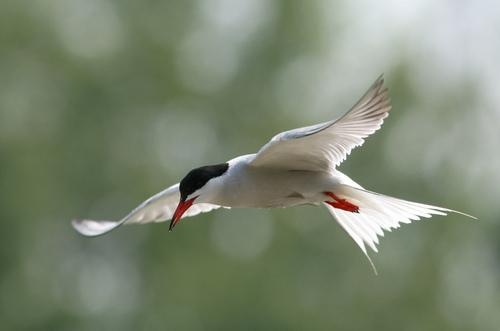bird: (66, 71, 435, 253)
